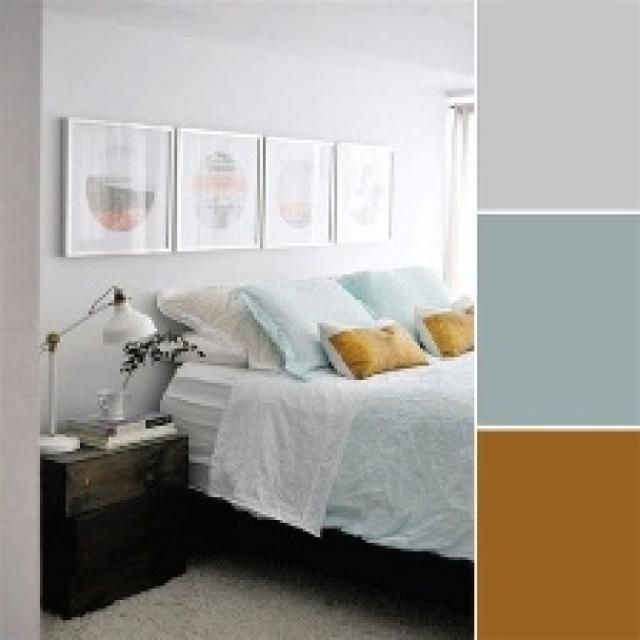Bed: (154, 266, 474, 568)
